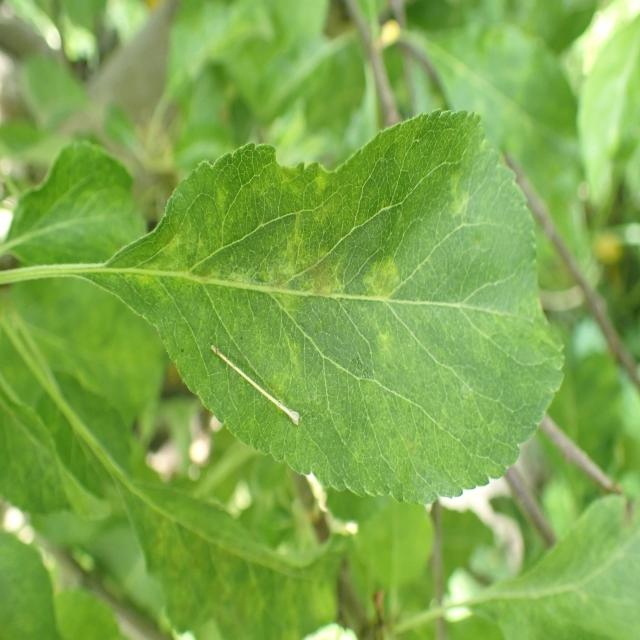scab: (147, 145, 540, 453)
